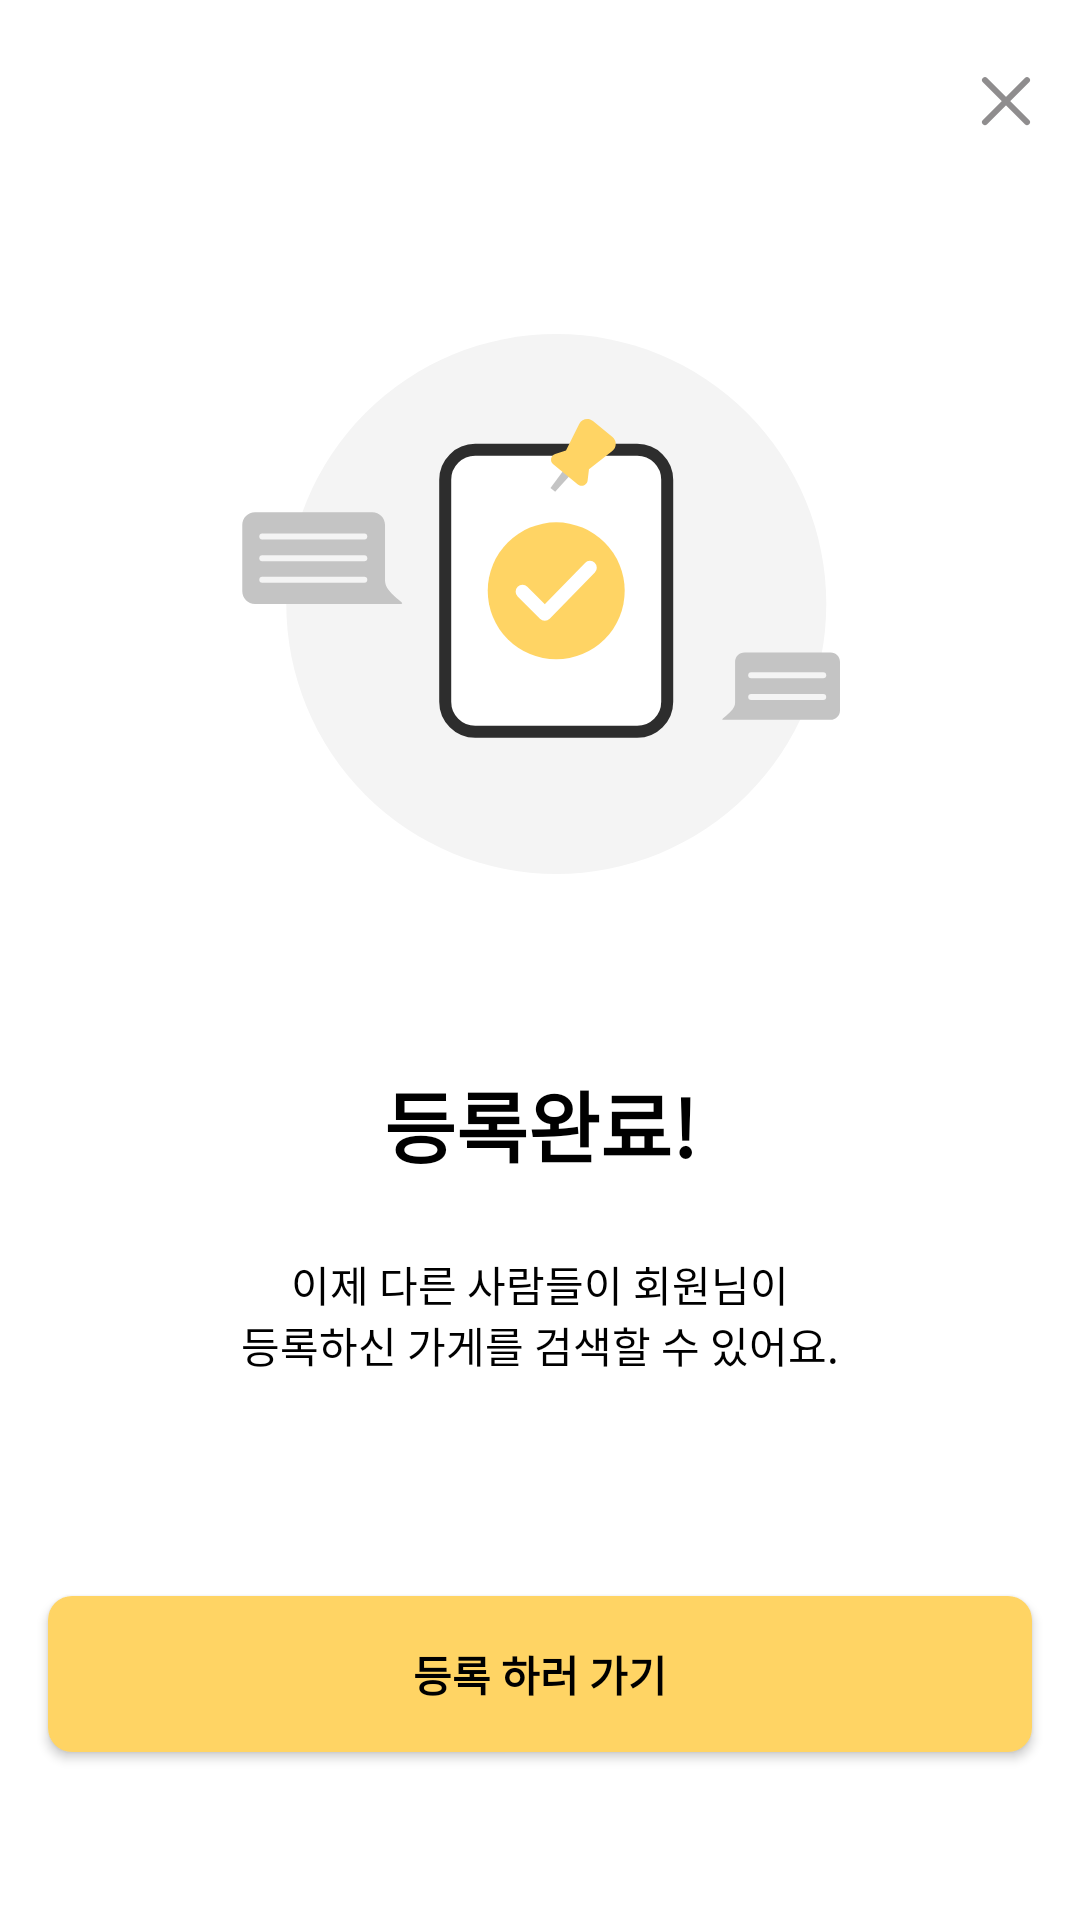

Icons on this 1080*1920 Android screen, each with its box as (x1, y1, x2, y2):
close: (982, 77, 1030, 125)
